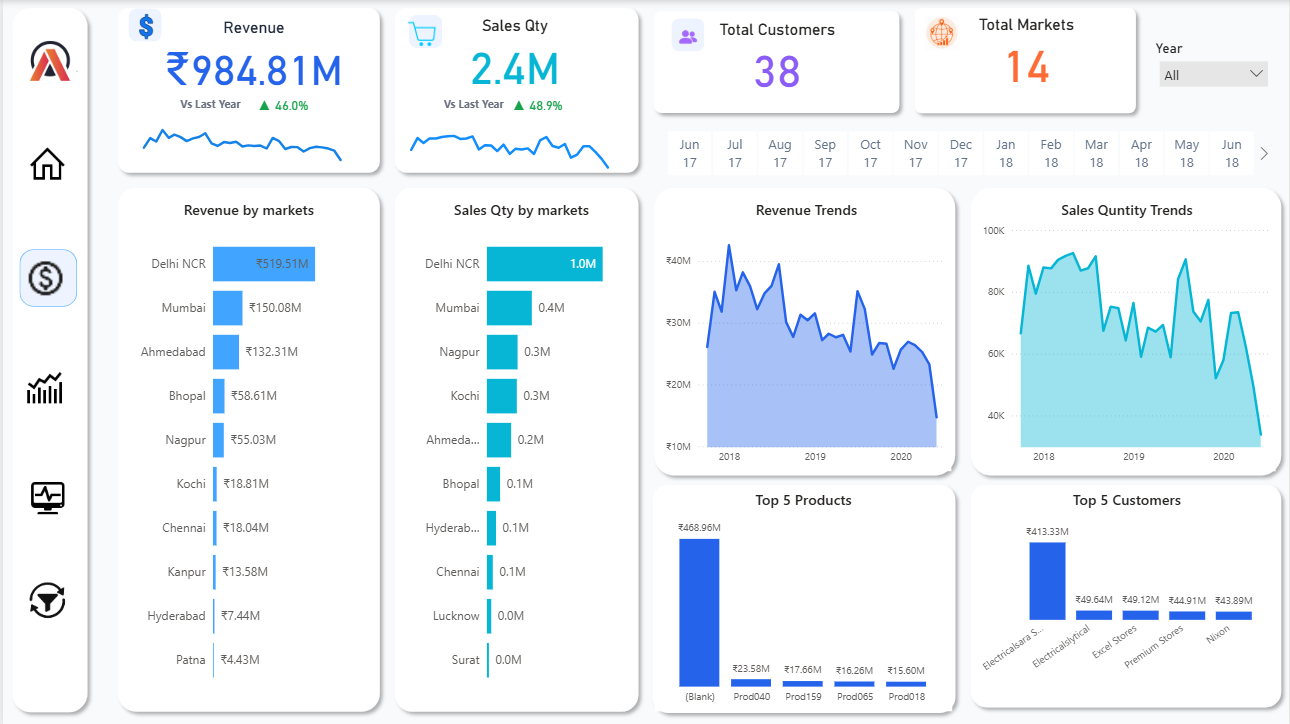

The page's visual inventory and layout, read from the dashboard file:
{"tool":"powerbi","page":{"name":"key insights","canvas":[1564,888],"ordinal":1},"visuals":[{"type":"shape","box":[2.3,0,110,875.6],"z":0},{"type":"shape","box":[131.2,0,337.1,219.5],"z":1000},{"type":"image","box":[15,27.9,81.4,92.1],"z":2000},{"type":"shape","box":[468.3,0,314.5,219.5],"z":3000},{"type":"shape","box":[468.3,219.5,314.5,656.1],"z":4000},{"type":"shape","box":[131.2,219.5,337.1,656.1],"z":5000},{"type":"shape","box":[780.5,579.2,386.9,296.4],"z":6000},{"type":"shape","box":[1167.4,219.5,395.9,368.8],"z":7000},{"type":"shape","box":[782.8,219.5,384.6,368.8],"z":8000},{"type":"shape","box":[1167.4,579.2,395.9,289.6],"z":9000},{"type":"card","title":"Revenue","fields":{"Values":["Base Measures.Revenue"]},"box":[162.9,22.6,285.1,92.8],"z":10000},{"type":"card","title":"Sales Qty","fields":{"Values":["Base Measures.Sales Qty"]},"box":[493.2,20.4,257.9,90.5],"z":11000},{"type":"barChart","title":"Revenue by markets","fields":{"Category":["sales markets.markets_name"],"Y":["Base Measures.Revenue"]},"box":[156.1,242.1,285.1,608.6],"z":12000},{"type":"barChart","title":"Sales Qty by markets","fields":{"Category":["sales markets.markets_name"],"Y":["Base Measures.Sales Qty"]},"box":[493.2,242.1,273.8,608.6],"z":13000},{"type":"lineChart","title":"Revenue Trends","fields":{"Y":["Base Measures.Revenue"],"Category":["sales date.cy_date"]},"box":[800.9,242.1,352.9,330.3],"z":14000},{"type":"lineChart","title":"Sales Quntity Trends","fields":{"Y":["Base Measures.Sales Qty"],"Category":["sales date.cy_date"]},"box":[1185.5,242.1,362,330.3],"z":15000},{"type":"columnChart","title":"Top 5 Customers","fields":{"Category":["sales customers.custmer_name"],"Y":["Base Measures.Revenue"]},"box":[1185.1,595.8,362.2,255],"z":16000},{"type":"columnChart","title":"Top 5 Products","fields":{"Category":["sales products.product_code"],"Y":["Base Measures.Revenue"]},"box":[791.8,595,362,269.2],"z":17000},{"type":"textbox","box":[194.6,113.1,115.4,33.9],"z":18000},{"type":"lineChart","fields":{"Y":["Base Measures.Revenue"],"Category":["sales date.cy_date"]},"box":[156.1,133.5,269.2,72.4],"z":19000},{"type":"textbox","box":[513.6,113.1,117.6,33.9],"z":20000},{"type":"lineChart","fields":{"Y":["Base Measures.Sales Qty"],"Category":["sales date.cy_date"]},"box":[481.9,147.1,269.2,72.4],"z":21000},{"type":"image","box":[4.5,169.7,99.5,58.8],"z":22000},{"type":"image","box":[20.4,438.9,61.1,63.3],"z":23000},{"type":"image","box":[28.1,580,52.2,50.2],"z":24000},{"type":"slicer","fields":{"Values":["sales date.cy_date"]},"box":[782.8,151.6,762.4,67.9],"z":25000},{"type":"shape","box":[152.7,10.2,40.7,40.7],"z":26000},{"type":"image","box":[151.6,11.3,43,40.7],"z":27000},{"type":"shape","box":[493.2,18.1,40.7,40.7],"z":28000},{"type":"image","box":[486.4,18.1,47.5,47.5],"z":29000},{"type":"card","fields":{"Values":["Base Measures.Revenue Growth Display"]},"box":[291.9,113.1,99.5,33.9],"z":30000},{"type":"card","fields":{"Values":["Base Measures.Sales Growth Display"]},"box":[597.3,108.6,104.1,43],"z":31000},{"type":"shape","box":[782.8,4.5,316.7,142.5],"z":32000},{"type":"card","title":"Total Customers","fields":{"Values":["Base Measures.Total Customers"]},"box":[812.2,24.9,257.9,90.5],"z":33000},{"type":"shape","box":[812.2,22.6,40.7,40.7],"z":34000},{"type":"shape","box":[1099.5,0,287.3,147.1],"z":35000},{"type":"card","title":"Total Markets","fields":{"Values":["Base Measures.Total Markets"]},"box":[1115.4,18.1,257.9,90.5],"z":36000},{"type":"slicer","title":"Year","fields":{"Values":["sales date.year"]},"box":[1395.9,47.5,151.6,86],"z":37000},{"type":"image","box":[794.1,0,76.9,92.8],"z":38000},{"type":"image","box":[1115.4,11.3,52,56.6],"z":39000},{"type":"shape","box":[20.4,303.2,70.1,70.1],"z":40000},{"type":"image","box":[0,310,104.1,58.8],"z":41000},{"type":"image","box":[13.6,692.3,81.4,79.2],"z":42001}]}

Visuals, with their boxes on the page's 1564x888 design canvas (x1, y1, x2, y2). These are canvas units, not pixel positions in the 1290x724 screenshot, which may show the page scaled, cropped or inside an application window:
shape: {"left": 2, "top": 0, "right": 112, "bottom": 876}
shape: {"left": 131, "top": 0, "right": 468, "bottom": 220}
image: {"left": 15, "top": 28, "right": 96, "bottom": 120}
shape: {"left": 468, "top": 0, "right": 783, "bottom": 220}
shape: {"left": 468, "top": 220, "right": 783, "bottom": 876}
shape: {"left": 131, "top": 220, "right": 468, "bottom": 876}
shape: {"left": 780, "top": 579, "right": 1167, "bottom": 876}
shape: {"left": 1167, "top": 220, "right": 1563, "bottom": 588}
shape: {"left": 783, "top": 220, "right": 1167, "bottom": 588}
shape: {"left": 1167, "top": 579, "right": 1563, "bottom": 869}
"Revenue" card: {"left": 163, "top": 23, "right": 448, "bottom": 115}
"Sales Qty" card: {"left": 493, "top": 20, "right": 751, "bottom": 111}
"Revenue by markets" barChart: {"left": 156, "top": 242, "right": 441, "bottom": 851}
"Sales Qty by markets" barChart: {"left": 493, "top": 242, "right": 767, "bottom": 851}
"Revenue Trends" lineChart: {"left": 801, "top": 242, "right": 1154, "bottom": 572}
"Sales Quntity Trends" lineChart: {"left": 1186, "top": 242, "right": 1548, "bottom": 572}
"Top 5 Customers" columnChart: {"left": 1185, "top": 596, "right": 1547, "bottom": 851}
"Top 5 Products" columnChart: {"left": 792, "top": 595, "right": 1154, "bottom": 864}
textbox: {"left": 195, "top": 113, "right": 310, "bottom": 147}
lineChart - Base Measures.Revenue x sales date.cy_date: {"left": 156, "top": 134, "right": 425, "bottom": 206}
textbox: {"left": 514, "top": 113, "right": 631, "bottom": 147}
lineChart - Base Measures.Sales Qty x sales date.cy_date: {"left": 482, "top": 147, "right": 751, "bottom": 220}
image: {"left": 4, "top": 170, "right": 104, "bottom": 228}
image: {"left": 20, "top": 439, "right": 82, "bottom": 502}
image: {"left": 28, "top": 580, "right": 80, "bottom": 630}
slicer - sales date.cy_date: {"left": 783, "top": 152, "right": 1545, "bottom": 220}
shape: {"left": 153, "top": 10, "right": 193, "bottom": 51}
image: {"left": 152, "top": 11, "right": 195, "bottom": 52}
shape: {"left": 493, "top": 18, "right": 534, "bottom": 59}
image: {"left": 486, "top": 18, "right": 534, "bottom": 66}
card - Base Measures.Revenue Growth Display: {"left": 292, "top": 113, "right": 391, "bottom": 147}
card - Base Measures.Sales Growth Display: {"left": 597, "top": 109, "right": 701, "bottom": 152}
shape: {"left": 783, "top": 4, "right": 1100, "bottom": 147}
"Total Customers" card: {"left": 812, "top": 25, "right": 1070, "bottom": 115}
shape: {"left": 812, "top": 23, "right": 853, "bottom": 63}
shape: {"left": 1100, "top": 0, "right": 1387, "bottom": 147}
"Total Markets" card: {"left": 1115, "top": 18, "right": 1373, "bottom": 109}
"Year" slicer: {"left": 1396, "top": 48, "right": 1548, "bottom": 134}
image: {"left": 794, "top": 0, "right": 871, "bottom": 93}
image: {"left": 1115, "top": 11, "right": 1167, "bottom": 68}
shape: {"left": 20, "top": 303, "right": 90, "bottom": 373}
image: {"left": 0, "top": 310, "right": 104, "bottom": 369}
image: {"left": 14, "top": 692, "right": 95, "bottom": 772}
